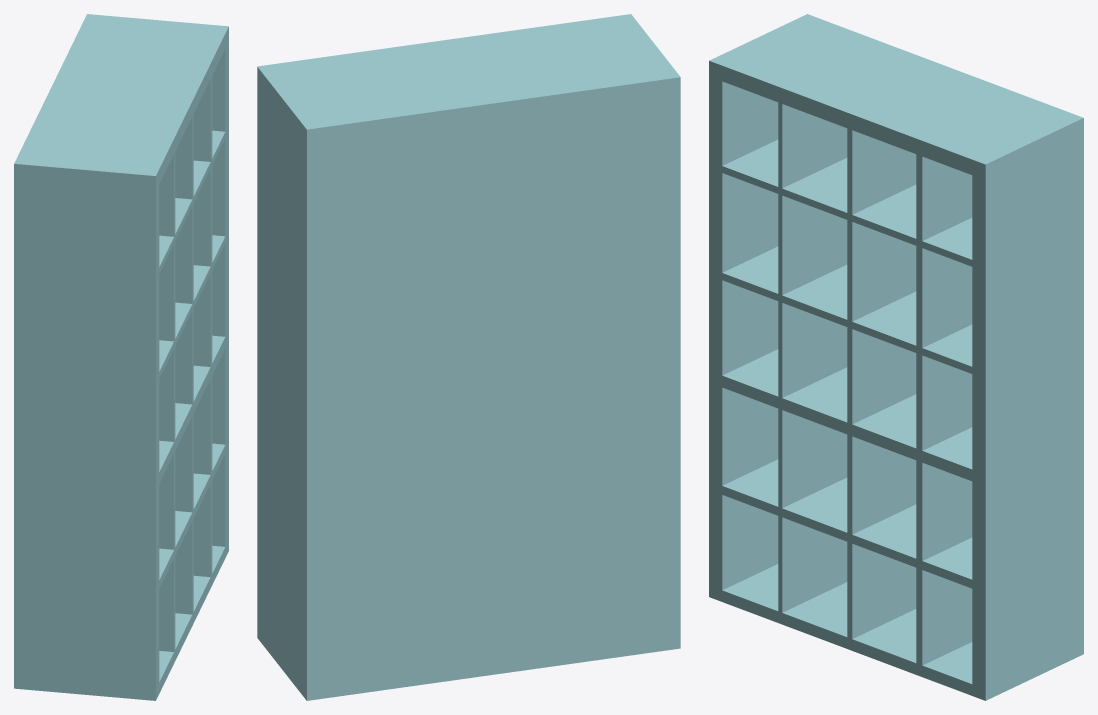
File: exhibidoral6.glb
The picture shows the model from 3 angles, left to right: view 1: azimuth 30°, elevation 25°; view 2: azimuth 150°, elevation 25°; view 3: azimuth 270°, elevation 25°; orthographic projection. The views are drawn at different scales.
Parts seen in each view (by area): view 1: Cube; view 2: Cube; view 3: Cube.
Boxes of the visible parts, box(x1,y1,x2,y2) form: Cube: box(14, 14, 228, 700); Cube: box(257, 14, 680, 700); Cube: box(709, 14, 1083, 700).
Size of the model in its own units: 0.4817 by 0.8 by 0.5066.
